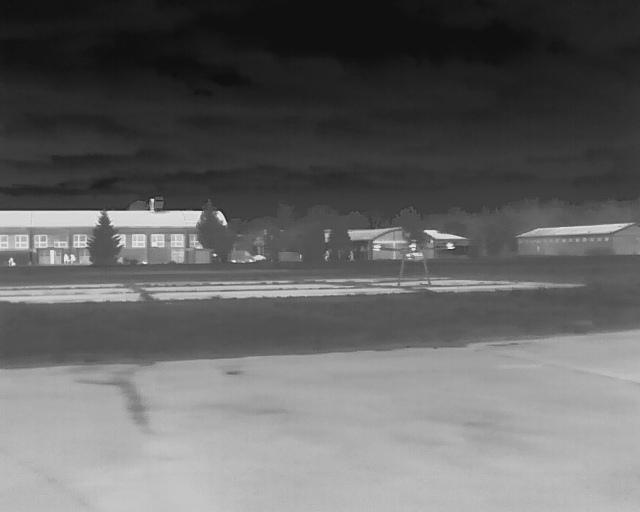drone: (351, 215, 468, 296)
